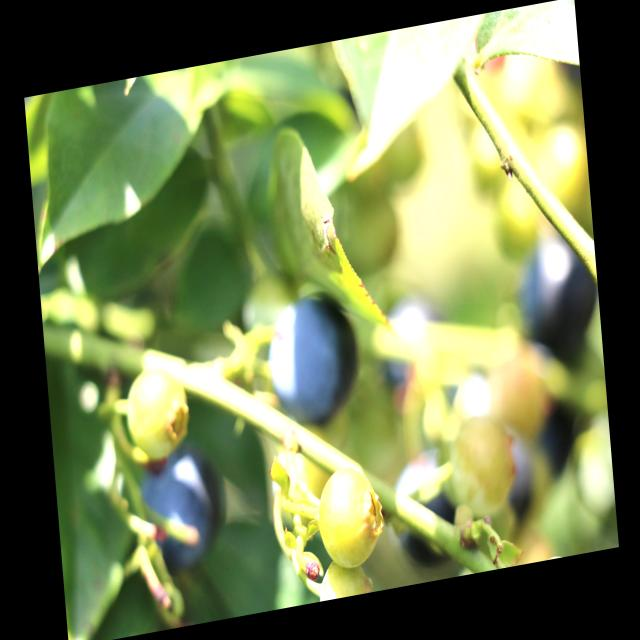blueberry: (264, 286, 366, 436), (133, 446, 239, 576), (513, 224, 599, 374)
blueberry-unripe: (314, 461, 386, 572), (122, 361, 193, 460), (314, 551, 375, 602)
